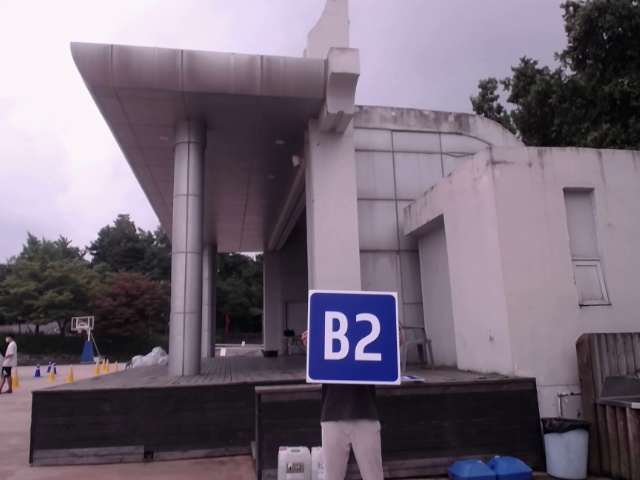delivery_b2: (309, 291, 400, 384)
